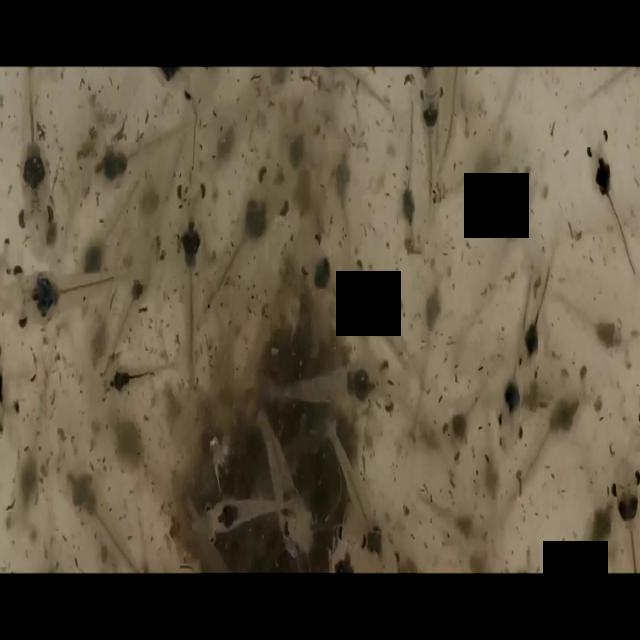shrimp3: (199, 156, 295, 332), (404, 245, 460, 464), (0, 255, 131, 334), (340, 251, 416, 386), (583, 119, 640, 290), (16, 70, 62, 238), (173, 179, 211, 380), (189, 492, 297, 549), (515, 247, 559, 384)
